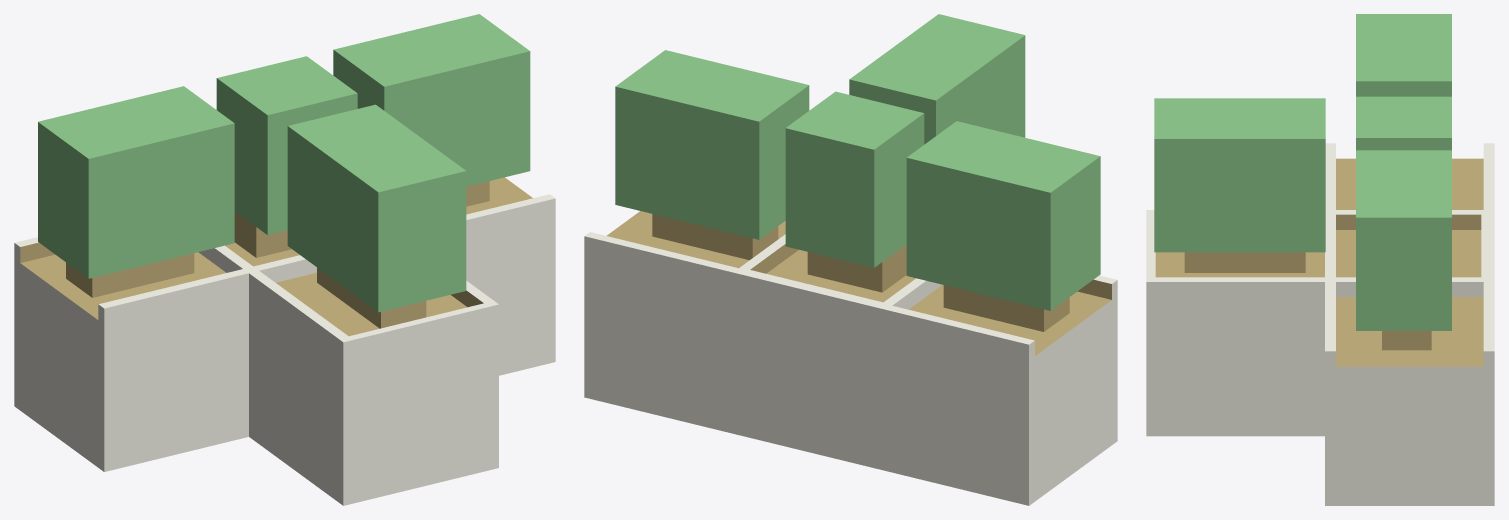
Rendered from props21.fbx.
3 views of the same model, side by side, from view 1: azimuth 30°, elevation 25°; view 2: azimuth 150°, elevation 25°; view 3: azimuth 270°, elevation 25° (orthographic). The views are drawn at different scales.
Visible parts, largest first — view 1: Cube_5; view 2: Cube_5; view 3: Cube_5.
Part boxes in pixels (x1,y1,x2,y2): Cube_5: (14, 14, 555, 505); Cube_5: (584, 14, 1117, 505); Cube_5: (1146, 14, 1494, 505).
Size of the model in its own units: 208 by 133 by 147.
